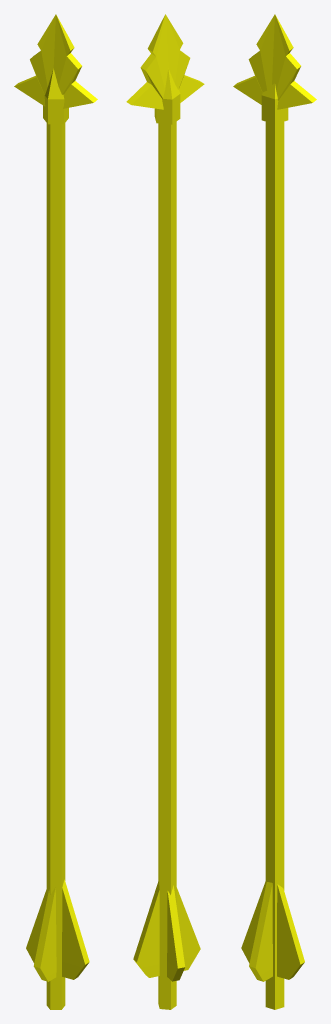
The model's file is _arrow_c_2.glb.
3 views of the same model, side by side, from view 1: azimuth 90°, elevation 25°; view 2: azimuth 150°, elevation 25°; view 3: azimuth 270°, elevation 25° (orthographic).
Parts seen in each view (by area): view 1: arrow_c_2; view 2: arrow_c_2; view 3: arrow_c_2.
Boxes of the visible parts, <box> form: arrow_c_2: <box>14,14,97,1009</box>; arrow_c_2: <box>126,14,204,1009</box>; arrow_c_2: <box>233,14,316,1009</box>.
Size of the model in its own units: 1113 by 19478 by 1493.
